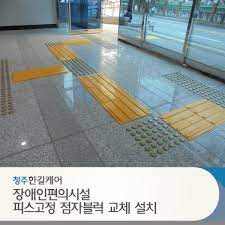guide_blocks: (86, 78, 181, 156), (166, 72, 225, 137), (49, 42, 96, 75), (12, 65, 64, 79), (1, 59, 14, 114), (83, 33, 118, 50)
